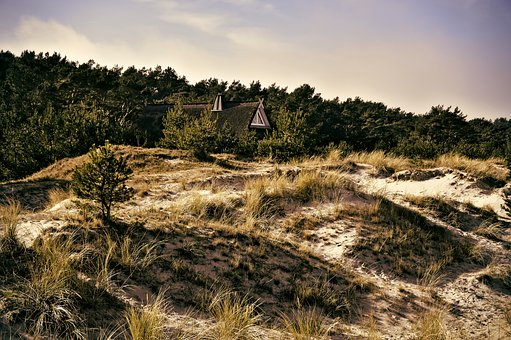field: (17, 146, 508, 340)
forest: (5, 67, 505, 160)
sky: (7, 1, 505, 81)
tree: (68, 150, 137, 222)
